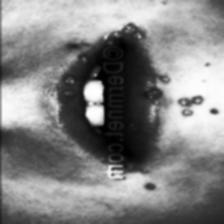Toxin: (120, 24, 154, 46), (140, 85, 162, 101)
